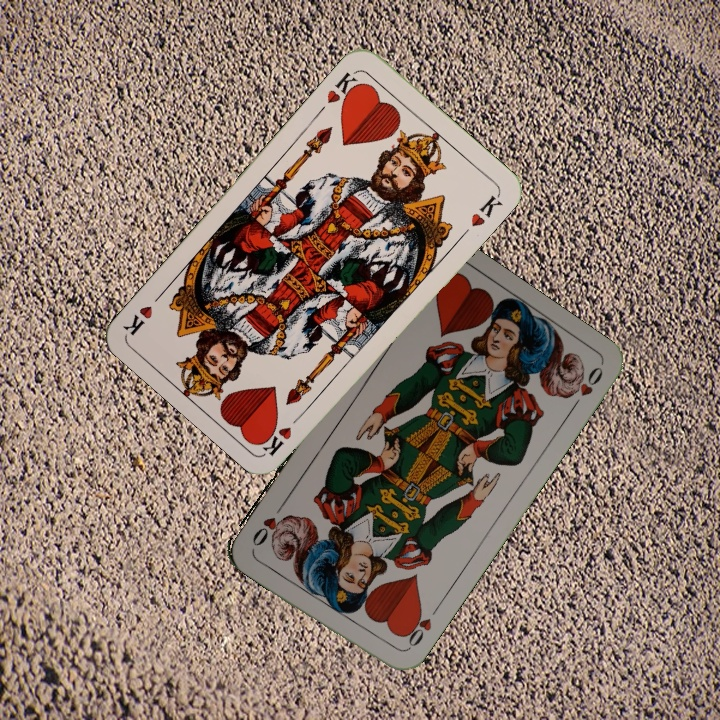HK: (259, 407, 307, 459), (322, 67, 365, 110)
HO: (397, 603, 441, 654)
